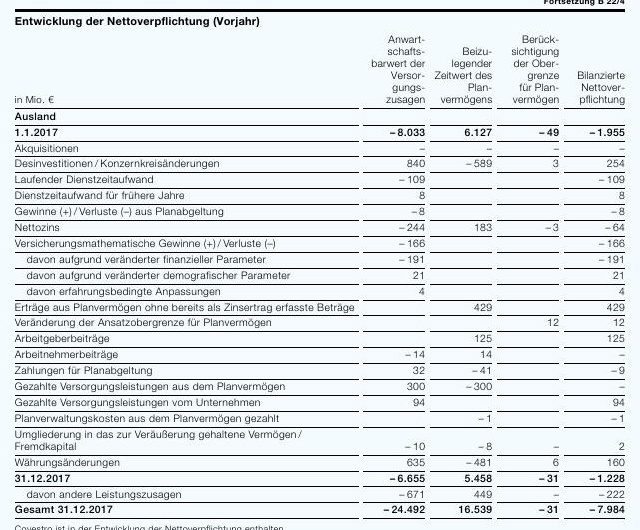table: (0, 0, 640, 530)
